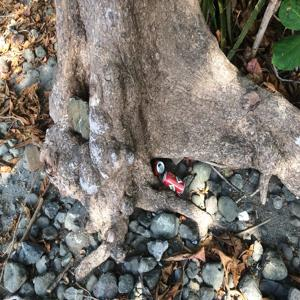metal: (161, 172, 194, 197), (148, 156, 167, 178)
